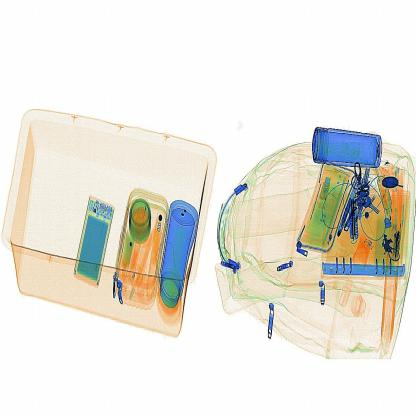scissors: (344, 186, 363, 246)
